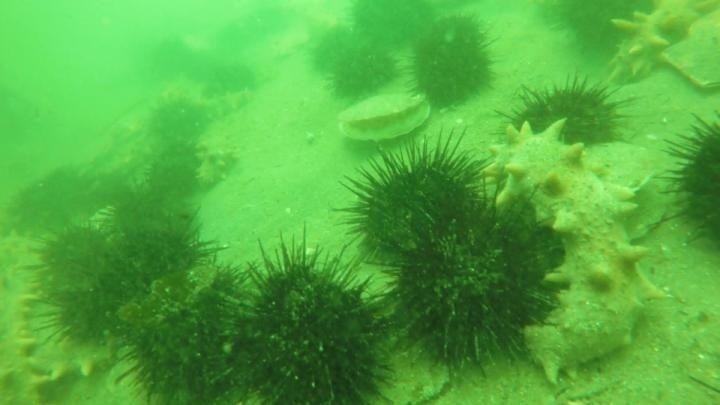echinus: (378, 195, 564, 381), (225, 231, 398, 403), (111, 258, 268, 403), (334, 133, 491, 267), (97, 202, 220, 309), (503, 72, 634, 155), (403, 12, 501, 112), (658, 110, 720, 251), (31, 279, 136, 354), (34, 220, 121, 298), (6, 166, 100, 238), (546, 1, 656, 58), (102, 181, 188, 246), (324, 36, 400, 102), (349, 1, 438, 49), (142, 140, 203, 202), (149, 86, 207, 142), (308, 25, 361, 78), (144, 35, 198, 85), (196, 60, 260, 101)
holothurian: (486, 122, 668, 384), (1, 233, 51, 402), (607, 1, 701, 85), (20, 317, 127, 382), (191, 138, 241, 193), (192, 85, 257, 124)
scallop: (365, 337, 455, 404), (335, 90, 434, 147), (659, 3, 720, 93), (576, 140, 662, 203), (444, 359, 561, 404), (336, 256, 407, 320)
